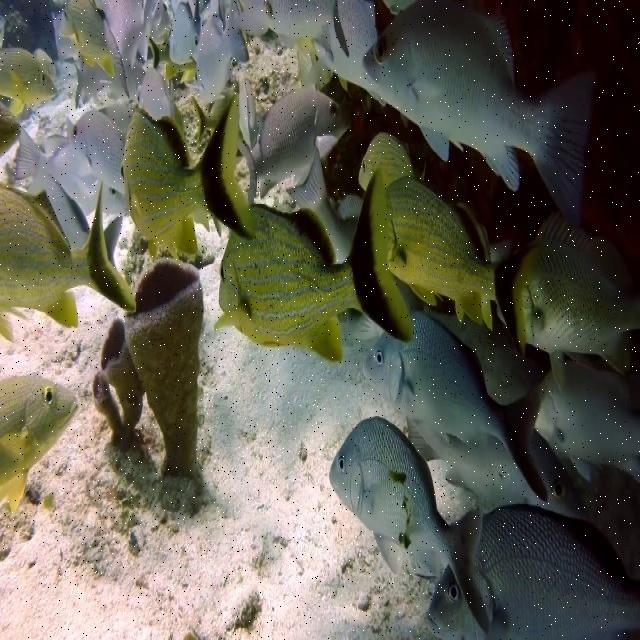fish: (363, 0, 595, 231), (213, 167, 414, 362), (362, 308, 548, 502), (329, 416, 491, 637), (385, 176, 542, 359), (471, 504, 639, 639), (121, 93, 255, 257), (0, 182, 136, 341), (523, 214, 635, 390), (407, 416, 588, 520), (535, 359, 639, 482), (238, 90, 345, 204), (1, 374, 78, 512), (0, 48, 58, 116), (359, 132, 414, 190)
reefs: (124, 256, 204, 479), (92, 318, 145, 452)
